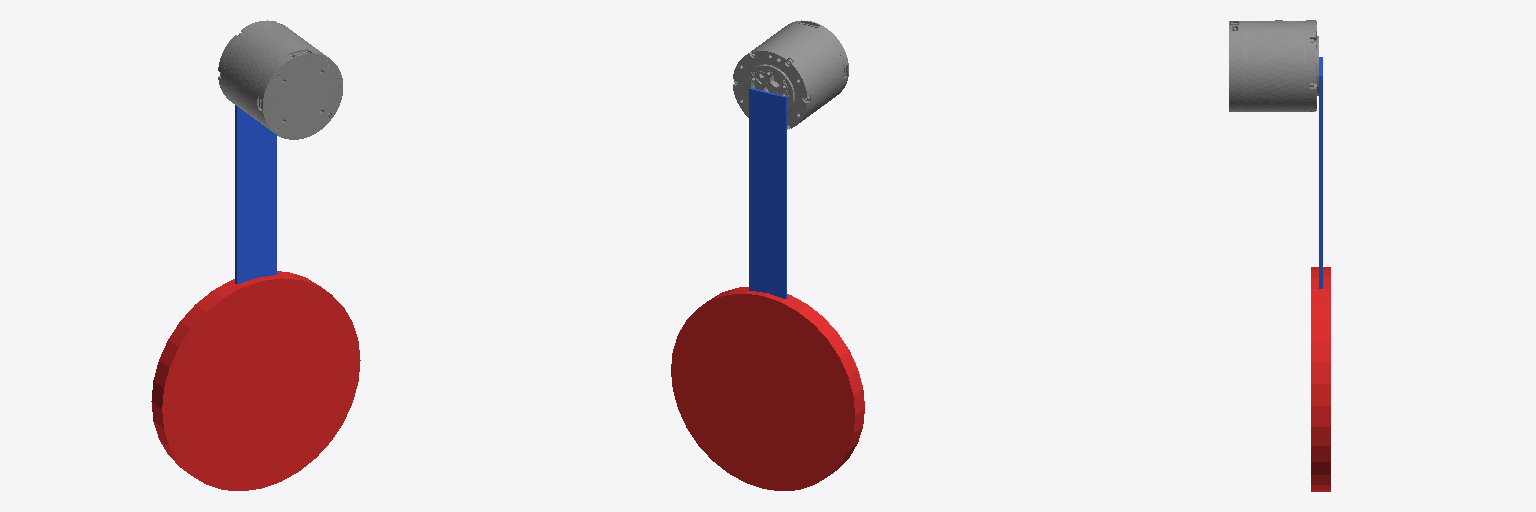
The robot description file, URDF, robot "single_joint_1kg":
<?xml version="1.0"?>
<!--
  Gravity compensation test rig: one revolute joint, 2.25 kg load 0.215 m from the axis.

  base_link => joint1 (revolute about -Y) => arm_link => load_joint (fixed, +0.215 m along X) => load_link

  joint1's origin is pitched +90 deg, so arm_link +X points straight down at q = 0:
  - q = 0     : arm hanging straight down (-Z)
  - q = +pi/2 : arm horizontal, pointing +X
  - Arm: flat bar, m = 0.150 kg, 215 mm long (X) x 28 mm wide (Z) x 2 mm thick (Y),
    pivoting at one end, so its COM is 0.1075 m from the joint axis.
  - Load: annular disk, m = 2.25 kg, ID = 20 mm, OD = 70 mm, thickness = 13 mm.
    Mounted at the far end of the bar: its centre sits 0.215 m from the joint axis and its own
    axis is parallel to the joint axis (Y).

  Gravity torque depends only on mass and COM position, so the disk shape does not change it.

  Expected holding torque (what JntToGravity should return):
      tau_g(q) = g * (m_load * L_load + m_bar * L_bar) * sin(q)
               = 9.81 * (2.25 * 0.215 + 0.15 * 0.1075) * sin(q)
               = (4.7456 load + 0.1582 bar) * sin(q) = 4.9038 * sin(q) [Nm]
      q = 0      -> 0.0000 Nm
      q = pi/4   -> 3.4675 Nm
      q = pi/2   -> 4.9038 Nm
      q = -pi/4  -> -3.4675 Nm
-->
<robot name="single_joint_1kg">

  <material name="grey">
    <color rgba="0.6 0.6 0.6 1.0"/>
  </material>
  <material name="blue">
    <color rgba="0.2 0.4 0.9 1.0"/>
  </material>
  <material name="red">
    <color rgba="0.9 0.2 0.2 1.0"/>
  </material>

  <!-- Fixed base = DAMIAO DM-J4340P motor (57 mm dia x 56.5 mm). No inertial: it never moves,
       so it does not affect joint torques.
       meshes/dm4340p.stl is in metres, axis along +Y, output flange face at y = 0.
       Rotated 180 deg about Z so the body sits on -Y behind the bar, and shifted 1 mm so the
       flange touches the bar's back face (bar is 2 mm thick, centred on y = 0). -->
  <link name="base_link">
    <visual>
      <origin xyz="0 -0.001 0" rpy="0 0 3.14159"/>
      <geometry>
        <mesh filename="package://single_joint_description/meshes/dm4340p.stl"/>
      </geometry>
      <material name="grey"/>
    </visual>
    <collision>
      <origin xyz="0 -0.0293 0" rpy="1.5708 0 0"/>
      <geometry>
        <cylinder radius="0.0285" length="0.0565"/>
      </geometry>
    </collision>
  </link>

  <!-- Horizontal axis, so gravity loads the joint. Axis is -Y so positive q lifts the arm up. -->
  <joint name="joint1" type="revolute">
    <parent link="base_link"/>
    <child link="arm_link"/>
    <!-- Zero offset: q = 0 points the arm down (equivalent to the old q = -pi/2). -->
    <origin xyz="0 0 0" rpy="0 1.5708 0"/>
    <axis xyz="0 -1 0"/>
    <limit lower="-3.14159" upper="3.14159" effort="10.0" velocity="5.0"/>
  </joint>

  <!-- Flat bar 0.215 x 0.002 x 0.028 m (X x Y x Z), 150 g, pivot at the x = 0 end.
       Box inertia about its COM, m/12 * (a^2 + b^2):
       ixx = m/12 * (t^2 + w^2) = 9.850e-6
       iyy = m/12 * (L^2 + w^2) = 5.8761e-4
       izz = m/12 * (L^2 + t^2) = 5.7786e-4 -->
  <link name="arm_link">
    <inertial>
      <origin xyz="0.1075 0 0" rpy="0 0 0"/>
      <mass value="0.150"/>
      <inertia ixx="9.850e-6" ixy="0" ixz="0" iyy="5.8761e-4" iyz="0" izz="5.7786e-4"/>
    </inertial>
    <visual>
      <origin xyz="0.1075 0 0" rpy="0 0 0"/>
      <geometry>
        <box size="0.215 0.002 0.028"/>
      </geometry>
      <material name="blue"/>
    </visual>
    <collision>
      <origin xyz="0.1075 0 0" rpy="0 0 0"/>
      <geometry>
        <box size="0.215 0.002 0.028"/>
      </geometry>
    </collision>
  </link>

  <joint name="load_joint" type="fixed">
    <parent link="arm_link"/>
    <child link="load_link"/>
    <origin xyz="0.215 0 0" rpy="0 0 0"/>
  </joint>

  <!-- 1 kg annular disk at the tip, axis along Y.
       r1 = 0.010 m, r2 = 0.035 m, h = 0.013 m
       I_axis (iyy)      = m/2  * (r1^2 + r2^2)          = 6.625e-4 kg m^2
       I_trans (ixx,izz) = m/12 * (3(r1^2 + r2^2) + h^2) = 3.4533e-4 kg m^2
       Inertia only affects dynamics, not the gravity torque. -->
<!-- Inertia only affects dynamics, not the gravity torque. -->
  <link name="load_link">
    <inertial>
      <origin xyz="0 0 0" rpy="0 0 0"/>
      <mass value="2.25"/>
      <inertia
        ixx="7.769925e-4"
        ixy="0"
        ixz="0"
        iyy="1.490625e-3"
        iyz="0"
        izz="7.769925e-4"/>
    </inertial>

    <!-- Solid cylinder, cylinder Z rotated to Y -->
    <visual>
      <origin xyz="0 0 0" rpy="1.5708 0 0"/>
      <geometry>
        <cylinder radius="0.07" length="0.013"/>
      </geometry>
      <material name="red"/>
    </visual>

    <collision>
      <origin xyz="0 0 0" rpy="1.5708 0 0"/>
      <geometry>
        <cylinder radius="0.07" length="0.013"/>
      </geometry>
    </collision>
  </link>

  <!-- ros2_control block: one DM4340 on can0, driven by hw_interface in MIT mode.
       ArmHardwareInterface has no zero offset (q = motor position * direction), so the motor's
       zero must be set with the arm hanging straight down (q = 0 in this URDF). -->
  <ros2_control name="SingleJointSystem" type="system">
    <hardware>
      <plugin>arm_hardware/ArmHardwareInterface</plugin>

      <param name="can_interface">can0</param>
      <param name="motor_ids">1</param>
      <!-- kp 0: the arm is moved by hand and joint_cmd's position target has no effect.
           Raise it to make the joint follow /joint_cmd. -->
      <param name="kp">0.0</param>
      <param name="kd">0.05</param>
      <!-- Motor positive moves opposite to URDF positive (same as test.py's default). -->
      <param name="direction">-1</param>
      <param name="control_modes">mit</param>
      <!-- MIT mapping ranges: must equal the motor's PMAX/VMAX/TMAX registers
           (DM4340 scan: 12.5 / 10 / 28). Wrong values scale torque/velocity. -->
      <param name="p_max">12.5</param>
      <param name="v_max">10.0</param>
      <param name="t_max">28.0</param>

    </hardware>
    <joint name="joint1">
      <param name="type">revolute</param>
      <command_interface name="position"/>
      <command_interface name="velocity"/>
      <command_interface name="effort"/>
      <state_interface name="position"/>
      <state_interface name="velocity"/>
      <state_interface name="effort"/>
    </joint>
  </ros2_control>

</robot>

--- What the picture shows (computed from the rendered views, not written in the file) ---
3 views of the same robot in one strip: view 1: azimuth 30°, elevation 25°; view 2: azimuth 150°, elevation 25°; view 3: azimuth 270°, elevation 25° (orthographic).
Model single_joint_1kg with 3 links and 2 joints (1 revolute, 1 fixed), rooted at base_link, posed every joint at zero.
Visible links, largest first — view 1: load_link, base_link, arm_link; view 2: load_link, base_link, arm_link; view 3: base_link, load_link, arm_link.
Link boxes in pixels (<box>): load_link: <box>151,271,360,490</box>; base_link: <box>218,20,342,139</box>; arm_link: <box>235,105,276,284</box>; load_link: <box>671,287,864,490</box>; base_link: <box>733,20,848,129</box>; arm_link: <box>749,88,786,298</box>; base_link: <box>1229,20,1318,111</box>; load_link: <box>1311,267,1330,491</box>; arm_link: <box>1319,57,1322,288</box>.
Bounding box of the posed robot: 0.14 × 0.064 × 0.3135 m (x, y, z).
1 mesh visuals loaded from 1 distinct referenced files (1 binary STL).
